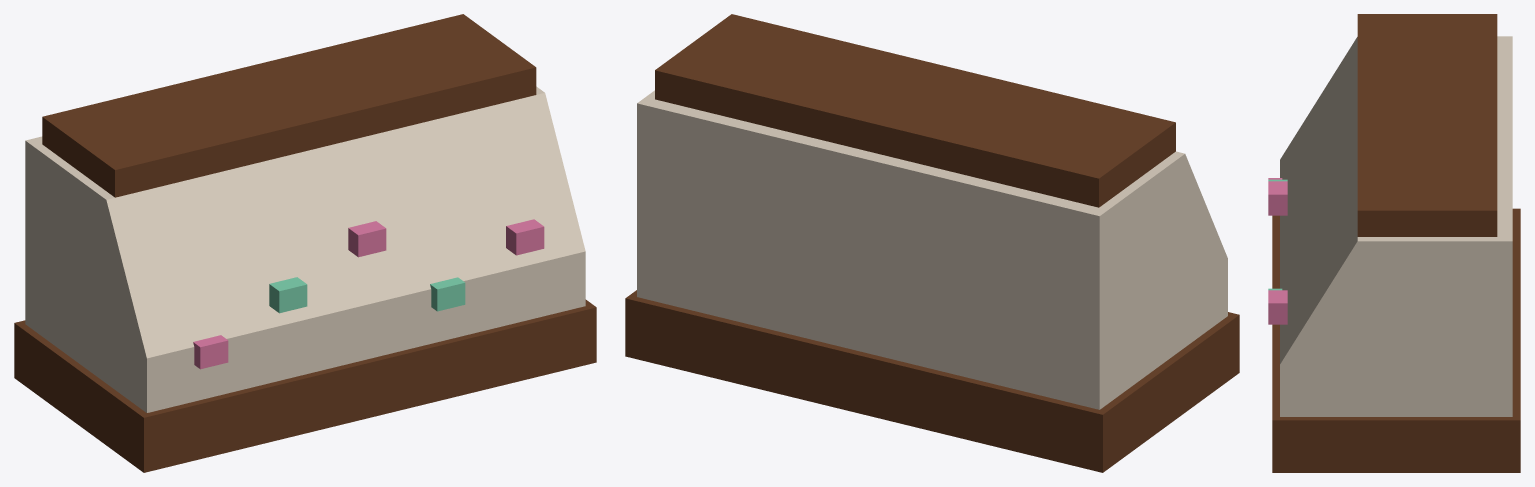
Rendered from barrierB.glb.
3 views of the same model, side by side, from view 1: azimuth 30°, elevation 25°; view 2: azimuth 150°, elevation 25°; view 3: azimuth 270°, elevation 25° (orthographic). The views are drawn at different scales.
Visible parts, largest first — view 1: candyLand-barrierB; view 2: candyLand-barrierB; view 3: candyLand-barrierB.
Boxes of the visible parts, x1=… form: candyLand-barrierB: x1=14, y1=14, x2=596, y2=472; candyLand-barrierB: x1=625, y1=14, x2=1239, y2=472; candyLand-barrierB: x1=1268, y1=14, x2=1520, y2=472.
Size of the model in its own units: 0.258 by 0.145 by 0.13.
